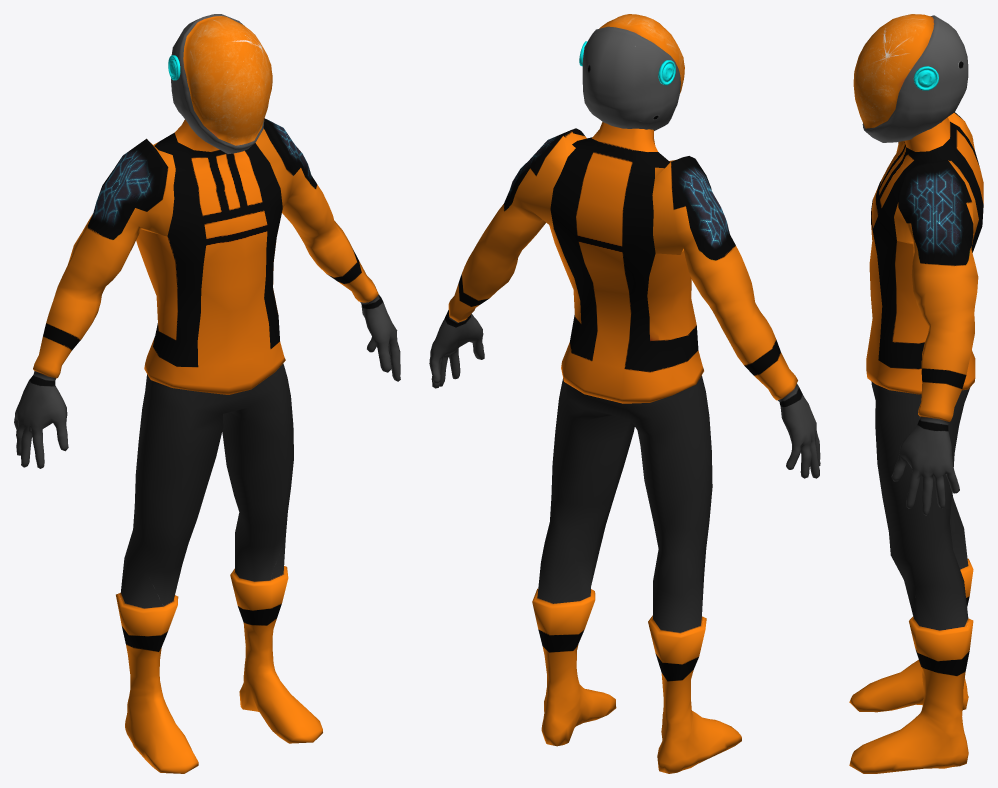
Rendered from personaje.obj.
3 views of the same model, side by side, from view 1: azimuth 30°, elevation 25°; view 2: azimuth 150°, elevation 25°; view 3: azimuth 270°, elevation 25° (orthographic).
Visible parts, largest first — view 1: Piernas, Object001, Brazos1, Cabeza1; view 2: Piernas, Object001, Brazos1, Cabeza1; view 3: Piernas, Brazos1, Object001, Cabeza1.
Boxes of the visible parts, x1,y1,x2,y2 form: Piernas: [116, 363, 322, 773]; Object001: [136, 119, 285, 394]; Brazos1: [14, 118, 400, 468]; Cabeza1: [168, 14, 272, 153]; Piernas: [532, 375, 741, 773]; Object001: [549, 122, 703, 403]; Brazos1: [429, 128, 820, 478]; Cabeza1: [579, 14, 684, 130]; Piernas: [849, 381, 973, 773]; Brazos1: [891, 112, 978, 515]; Object001: [866, 117, 983, 394]; Cabeza1: [853, 14, 968, 142].
Bounding box in the file's own units: 29.88 × 53.68 × 9.12.
